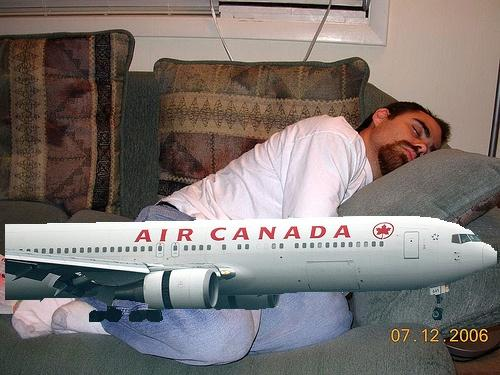tampered: (6, 214, 497, 322)
